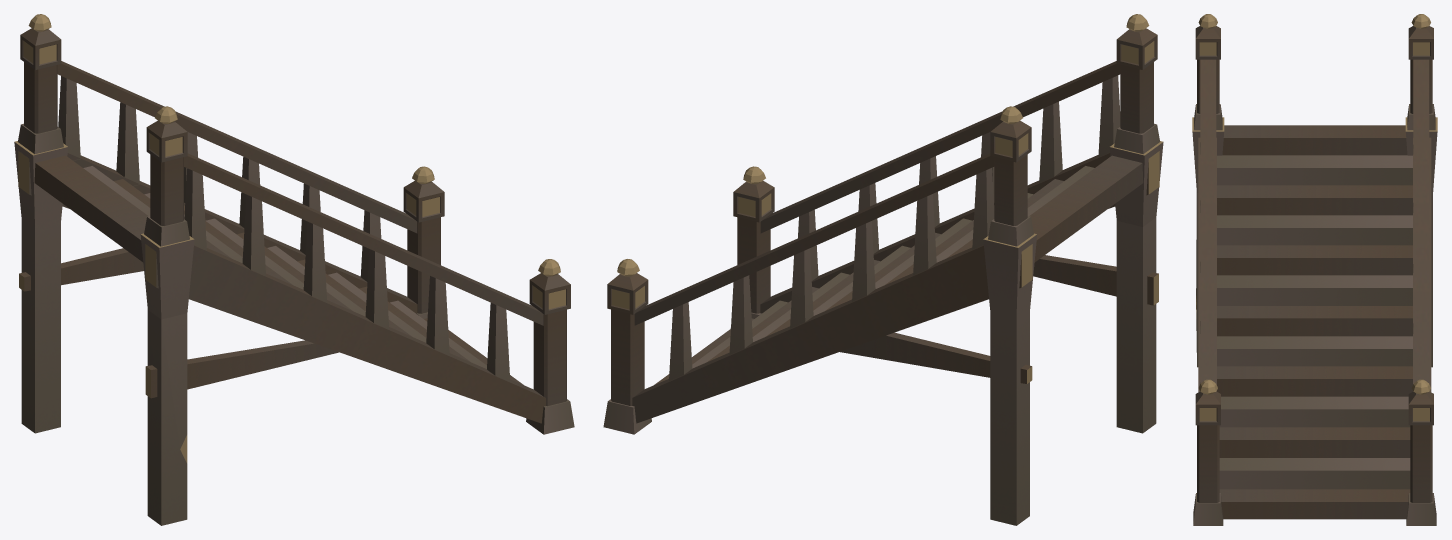
The model's file is Stair_1.fbx.
The picture shows the model from 3 angles, left to right: view 1: azimuth 30°, elevation 25°; view 2: azimuth 150°, elevation 25°; view 3: azimuth 270°, elevation 25°; orthographic projection. The views are drawn at different scales.
Parts seen in each view (by area): view 1: pCube805; view 2: pCube805; view 3: pCube805.
Boxes of the visible parts, x1,y1,x2,y2 form: pCube805: (14,14,574,525); pCube805: (603,14,1163,525); pCube805: (1192,14,1437,525).
Size of the model in its own units: 641 by 602 by 386.
